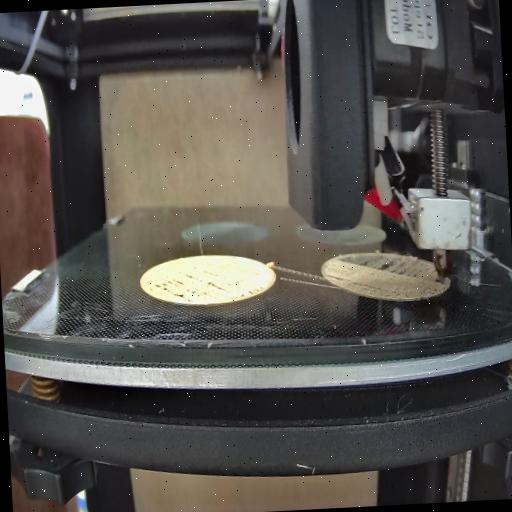under_extrusion: (150, 273, 266, 306), (346, 244, 424, 276)
